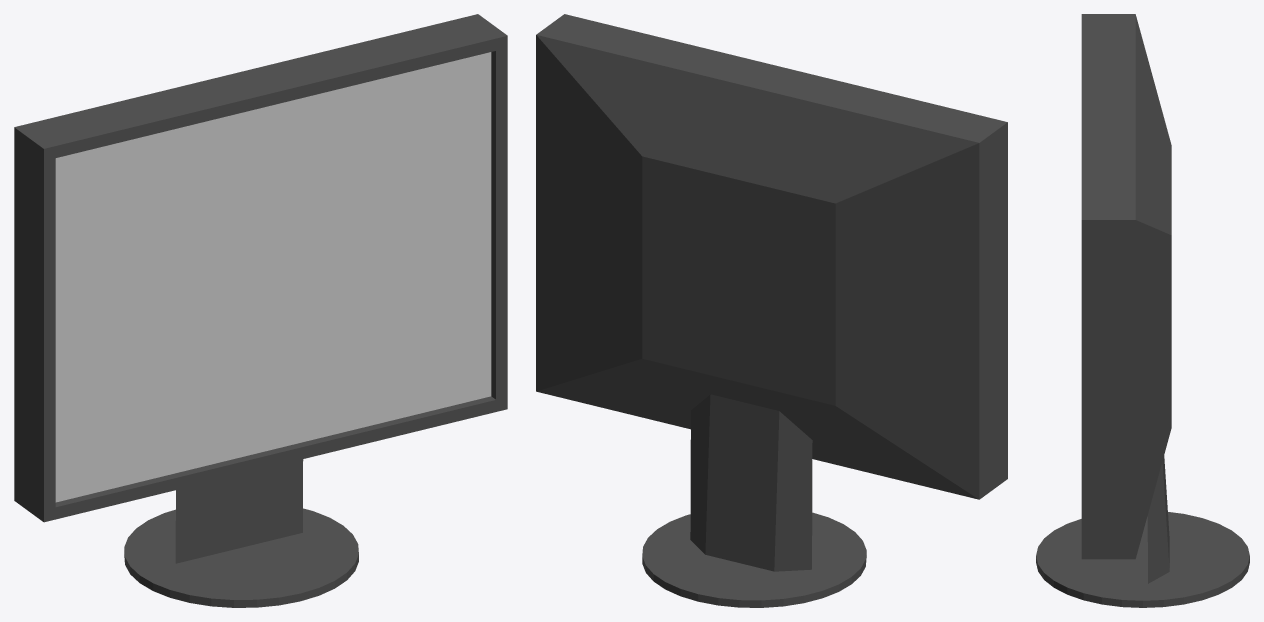
The model's file is monitor.fbx.
3 views of the same model, side by side, from view 1: azimuth 30°, elevation 25°; view 2: azimuth 150°, elevation 25°; view 3: azimuth 270°, elevation 25° (orthographic). The views are drawn at different scales.
Visible parts, largest first — view 1: monitor; view 2: monitor; view 3: monitor.
Part boxes in pixels (x1,y1,x2,y2): monitor: (14,14,507,607); monitor: (536,14,1007,607); monitor: (1036,14,1249,607).
Size of the model in its own units: 92.53 by 93.51 by 40.63.
Materials: 1 (1 with a texture image).
